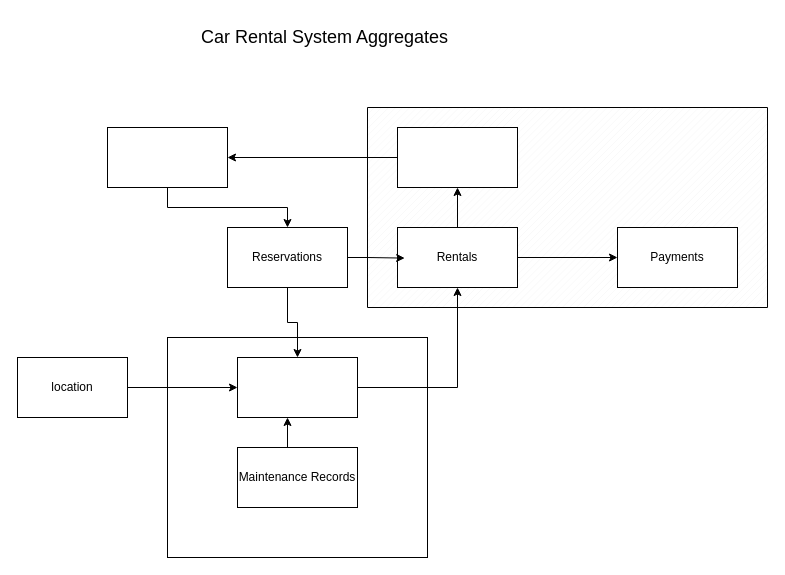
This 785x575 diagram has some shape labels left out. The shapes that lost their labels are listed below. From the top down, each one's centre as x and y in pixels, then its label:
point (167, 157): Customer
point (457, 157): Invoices
point (297, 387): Vehicle
